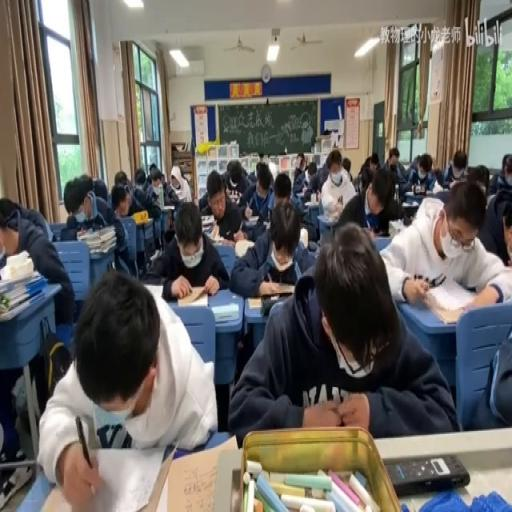calculator: (160, 436, 237, 512), (419, 274, 477, 322), (246, 292, 292, 312), (177, 287, 208, 306), (260, 279, 294, 296), (212, 302, 238, 322), (142, 282, 164, 302), (234, 238, 256, 256), (387, 218, 406, 238), (371, 235, 392, 253), (168, 186, 185, 204), (213, 233, 234, 246), (298, 224, 308, 248), (132, 209, 150, 222), (201, 215, 214, 232), (244, 215, 259, 226), (148, 248, 160, 260), (416, 189, 434, 196), (305, 198, 319, 206), (106, 259, 116, 270), (182, 171, 190, 182), (162, 204, 175, 210), (265, 219, 270, 230)
paper: (229, 225, 454, 445), (37, 266, 213, 506), (0, 196, 76, 333), (60, 174, 126, 292), (154, 200, 228, 302), (464, 316, 510, 431), (476, 168, 511, 267), (320, 148, 356, 222), (142, 164, 178, 234), (402, 151, 436, 196), (222, 158, 250, 208), (380, 146, 406, 192), (292, 158, 319, 199), (442, 149, 468, 189), (272, 169, 291, 206), (110, 184, 130, 218), (130, 185, 152, 215), (356, 155, 374, 189), (0, 223, 18, 255), (470, 164, 490, 192), (0, 196, 18, 224), (91, 175, 107, 202), (134, 166, 146, 186), (324, 149, 334, 171), (267, 158, 277, 180), (114, 171, 128, 186), (501, 155, 510, 176), (432, 166, 442, 184), (498, 174, 510, 189), (341, 155, 350, 172), (411, 154, 421, 168), (225, 160, 233, 176), (370, 158, 378, 173), (306, 168, 316, 180), (152, 176, 161, 188), (254, 161, 261, 176), (171, 179, 180, 189), (160, 174, 166, 186), (294, 164, 301, 174), (258, 152, 265, 161)
person: (384, 452, 470, 496), (400, 203, 418, 219), (426, 272, 444, 286)
